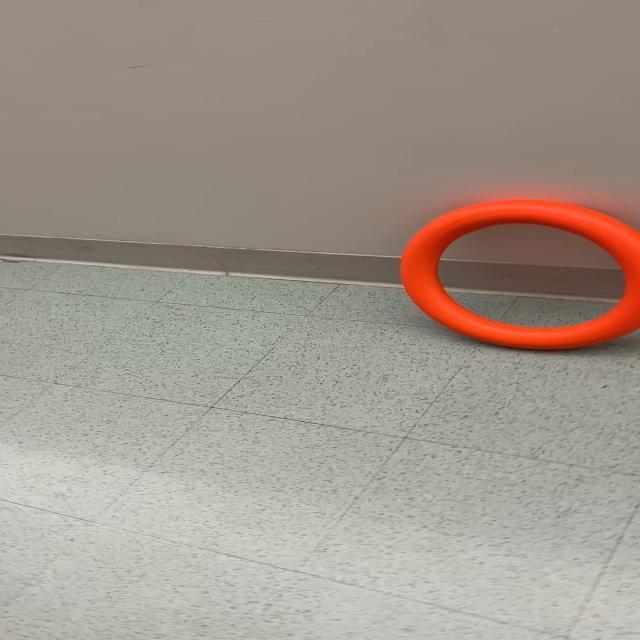note: (397, 197, 637, 351)
